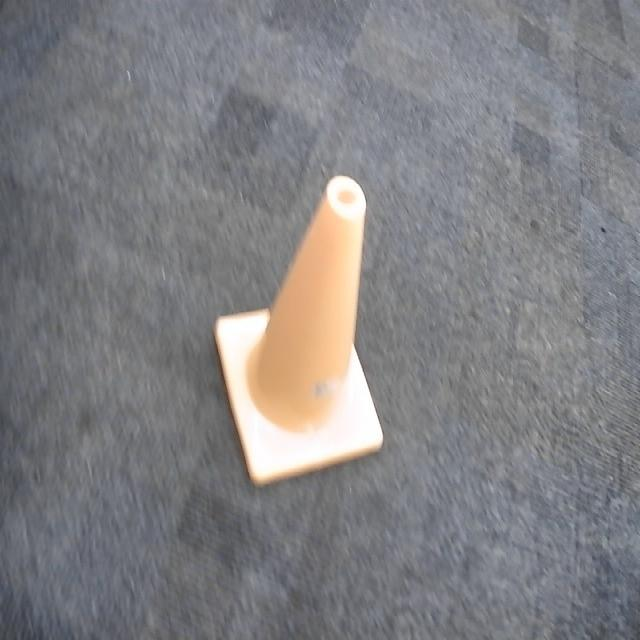cone: (216, 173, 386, 489)
